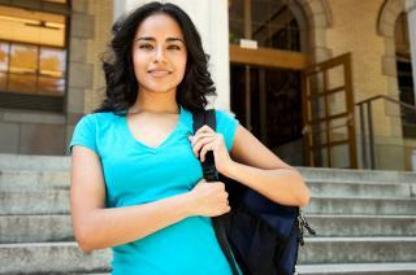person: (64, 0, 317, 275)
